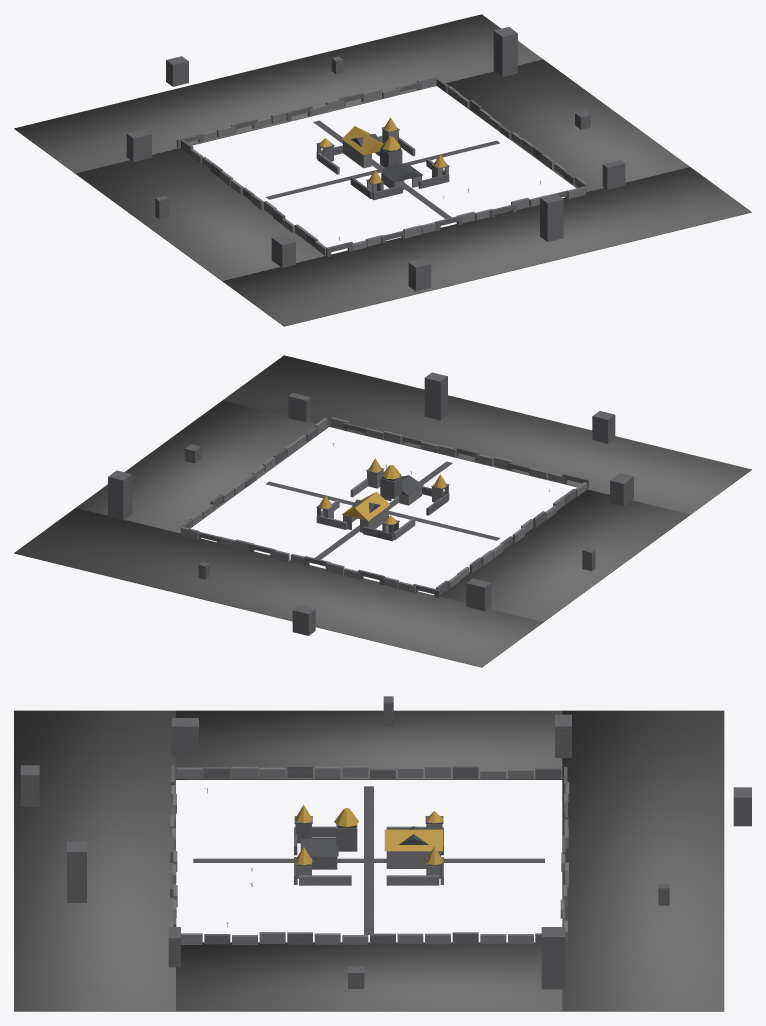
3 views of the same model, one above another, from view 1: azimuth 30°, elevation 25°; view 2: azimuth 150°, elevation 25°; view 3: azimuth 270°, elevation 25° (orthographic). The views are drawn at different scales.
Parts seen in each view (by area): view 1: HB_z04_LOD2_terrain, HB_z04_LOD2_wall_alt, HB_z04_LOD2_wall, HB_z04_LOD2_road, HB_z04_LOD2_accent, HB_z04_LOD2_trim; view 2: HB_z04_LOD2_terrain, HB_z04_LOD2_wall_alt, HB_z04_LOD2_wall, HB_z04_LOD2_road, HB_z04_LOD2_accent, HB_z04_LOD2_trim; view 3: HB_z04_LOD2_terrain, HB_z04_LOD2_wall_alt, HB_z04_LOD2_wall, HB_z04_LOD2_road, HB_z04_LOD2_accent, HB_z04_LOD2_trim.
Boxes of the visible parts, box(x1,y1,x2,y2) form: HB_z04_LOD2_terrain: box(14, 14, 751, 326); HB_z04_LOD2_wall_alt: box(126, 27, 625, 291); HB_z04_LOD2_wall: box(190, 76, 587, 255); HB_z04_LOD2_road: box(265, 120, 499, 218); HB_z04_LOD2_accent: box(319, 117, 446, 183); HB_z04_LOD2_trim: box(316, 127, 449, 184); HB_z04_LOD2_terrain: box(14, 355, 751, 667); HB_z04_LOD2_wall_alt: box(108, 372, 633, 635); HB_z04_LOD2_wall: box(180, 417, 587, 593); HB_z04_LOD2_road: box(266, 461, 500, 559); HB_z04_LOD2_accent: box(319, 458, 446, 524); HB_z04_LOD2_trim: box(316, 468, 449, 525); HB_z04_LOD2_terrain: box(14, 710, 724, 1011); HB_z04_LOD2_wall_alt: box(20, 696, 751, 989); HB_z04_LOD2_wall: box(169, 765, 569, 944); HB_z04_LOD2_road: box(193, 786, 544, 934); HB_z04_LOD2_accent: box(295, 805, 443, 864); HB_z04_LOD2_trim: box(294, 816, 443, 865).
Bounding box in the file's own units: 570 × 47.49 × 592.
7 materials, 7 textured.
